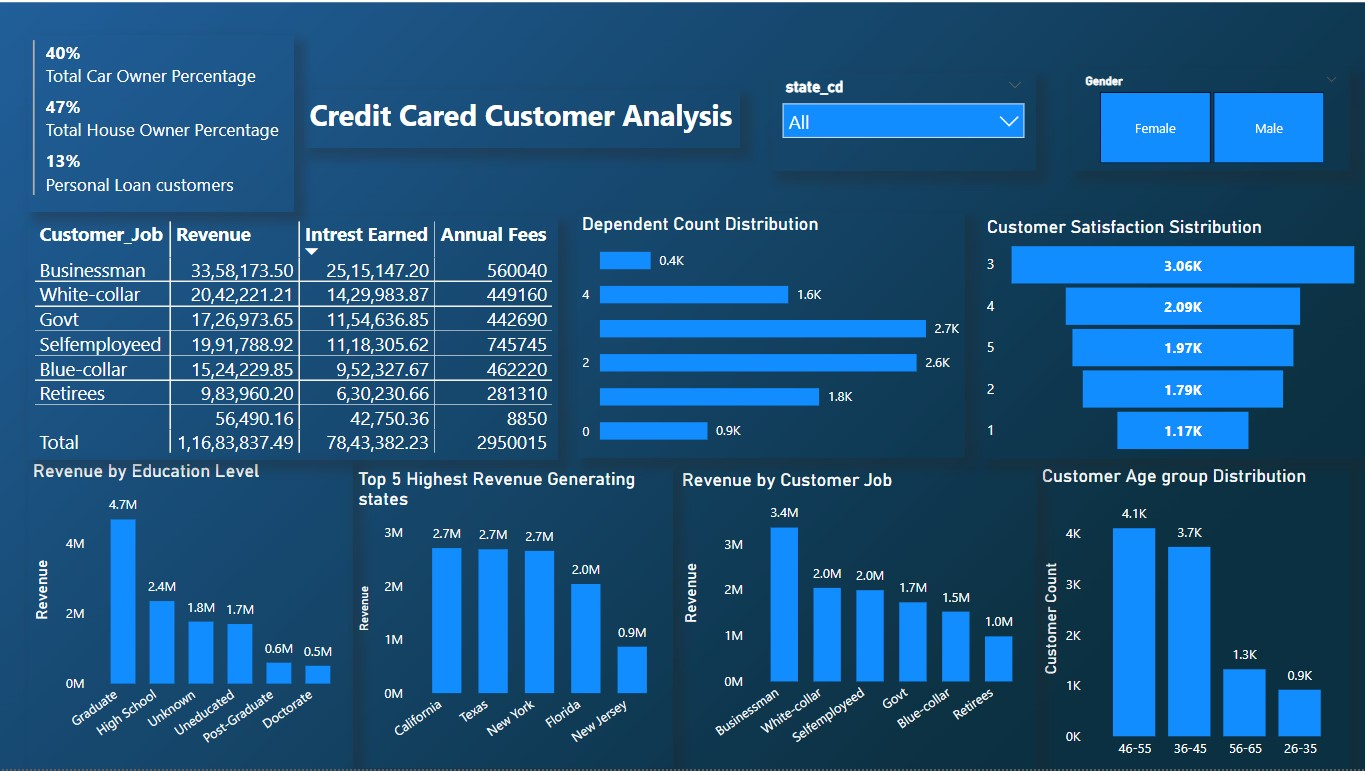

What the dashboard file says about the page in this screenshot:
{"tool":"powerbi","page":{"name":"Customer analysis","canvas":[1280,720],"ordinal":1},"visuals":[{"type":"clusteredColumnChart","title":"Customer Age group Distribution","fields":{"Category":["customer.Age Group"],"Y":["Count(customer.Client_Num)"]},"box":[974.4,437.2,291.9,282.6],"z":0},{"type":"multiRowCard","fields":{"Values":["customer.Total Car Owner Percentage","customer.Total House Owner Percentage","customer.Personal Loan customers"]},"box":[36,37.2,247.7,165.1],"z":2000},{"type":"clusteredColumnChart","title":"Revenue by Education Level","fields":{"Category":["customer.Education_Level"],"Y":["credit_card.Revenue"]},"box":[36,432.6,302.3,287.2],"z":3000},{"type":"clusteredColumnChart","title":"Revenue by Customer Job","fields":{"Category":["customer.Customer_Job"],"Y":["credit_card.Revenue"]},"box":[639.5,440.7,334.9,279.1],"z":4000},{"type":"barChart","title":"Dependent Count Distribution","fields":{"Category":["customer.Dependent_Count"],"Y":["CountNonNull(customer.Index)"]},"box":[546.5,202.3,361.6,229.1],"z":5000},{"type":"funnel","title":"Customer Satisfaction Sistribution","fields":{"Category":["customer.Cust_Satisfaction_Score"],"Y":["CountNonNull(customer.Index)"]},"box":[923.3,205.8,357,225.6],"z":6000},{"type":"clusteredColumnChart","title":"Top 5 Highest Revenue Generating states","fields":{"Category":["customer.state_cd"],"Y":["credit_card.Revenue"]},"box":[338.4,439.5,297.7,279.1],"z":7000},{"type":"tableEx","fields":{"Values":["customer.Customer_Job","credit_card.Revenue","credit_card.Intrest Earned","credit_card.Annual  Fees"]},"box":[36,205.8,493,226.7],"z":8000},{"type":"slicer","fields":{"Values":["customer.Gender"]},"box":[1007,68.6,259.3,95.3],"z":9000},{"type":"slicer","fields":{"Values":["customer.state_cd"]},"box":[727.9,72.1,245.3,91.9],"z":10000},{"type":"textbox","box":[293,88.4,405.8,54.7],"z":10001}]}

Visuals, with their boxes in screenshot pixels (x1, y1, x2, y2), scaled from the page's 1280x720 canvas onto the 1365x771 screenshot:
"Customer Age group Distribution" clusteredColumnChart: bbox=[1039, 468, 1350, 770]
multiRowCard - customer.Total Car Owner Percentage x customer.Total House Owner Percentage: bbox=[38, 40, 303, 217]
"Revenue by Education Level" clusteredColumnChart: bbox=[38, 463, 361, 770]
"Revenue by Customer Job" clusteredColumnChart: bbox=[682, 472, 1039, 770]
"Dependent Count Distribution" barChart: bbox=[583, 217, 968, 462]
"Customer Satisfaction Sistribution" funnel: bbox=[985, 220, 1364, 462]
"Top 5 Highest Revenue Generating states" clusteredColumnChart: bbox=[361, 471, 678, 770]
tableEx - customer.Customer_Job x credit_card.Revenue: bbox=[38, 220, 564, 463]
slicer - customer.Gender: bbox=[1074, 73, 1350, 176]
slicer - customer.state_cd: bbox=[776, 77, 1038, 176]
textbox: bbox=[312, 95, 745, 153]
